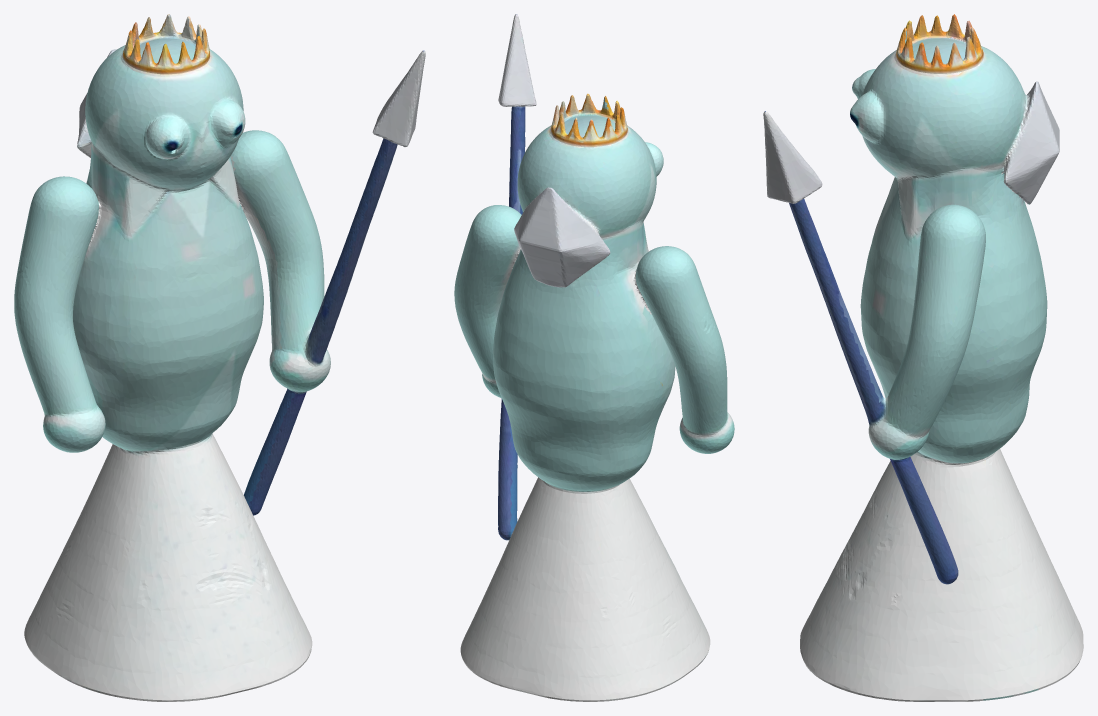
Rendered from creature-033.glb.
3 views of the same model, side by side, from view 1: azimuth 30°, elevation 25°; view 2: azimuth 150°, elevation 25°; view 3: azimuth 270°, elevation 25° (orthographic). The views are drawn at different scales.
Parts seen in each view (by area): view 1: tmpp2azejtu.ply; view 2: tmpp2azejtu.ply; view 3: tmpp2azejtu.ply.
Boxes of the visible parts, x1=… form: tmpp2azejtu.ply: x1=14, y1=14, x2=425, y2=701; tmpp2azejtu.ply: x1=454, y1=14, x2=734, y2=701; tmpp2azejtu.ply: x1=763, y1=14, x2=1083, y2=701.
Bounding box in the file's own units: 1.1 × 1.99 × 0.9376.
1 material, 1 textured.
